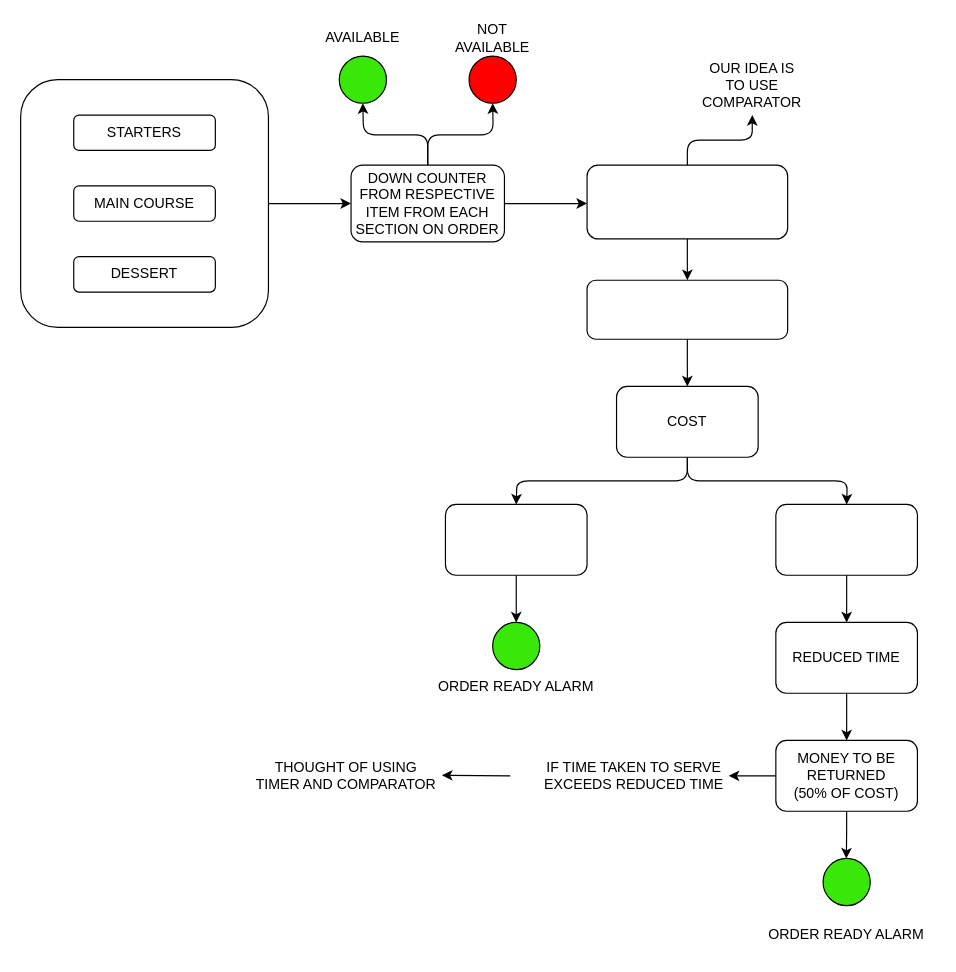
Image size: 956x972. Some labels were removed from this diagram. The centre of each missing label's shape, as x and y in pixels:
"DISPLAY ESTIMATED TIME" goes at point 515,539.
"INPUT OF ORDER PRIORITY (i.e, WHICH SECTION SHOULD BE SERVED FIRST)" goes at point 687,201.
"INPUT OF TYPE OF SERVICE(NORMAL / PRIORITY)" goes at point 687,309.
"PRIORITY FEE (10% OF COST)" goes at point 846,539.
